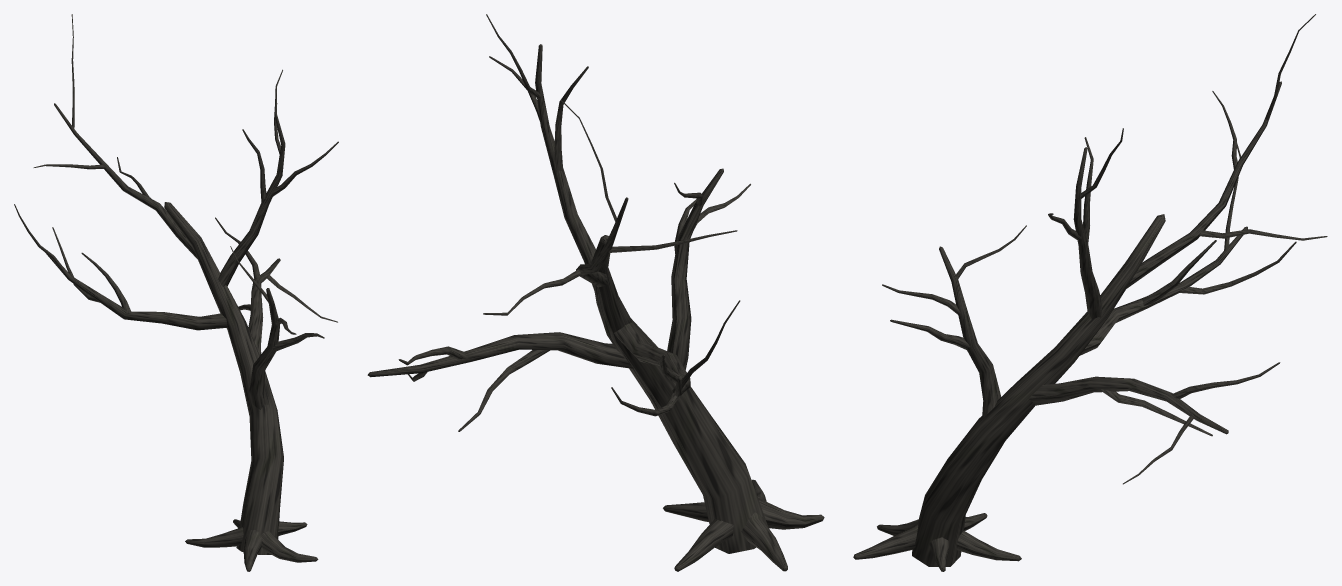
Rendered from GnarledDeadTree_1_LOD1.gltf.
3 renders of one model, left to right at view 1: azimuth 30°, elevation 25°; view 2: azimuth 150°, elevation 25°; view 3: azimuth 270°, elevation 25°, orthographic. The views are drawn at different scales.
Parts seen in each view (by area): view 1: GnarledDeadTree_1_LOD1; view 2: GnarledDeadTree_1_LOD1; view 3: GnarledDeadTree_1_LOD1.
Part boxes in pixels (bbox=[...]): GnarledDeadTree_1_LOD1: bbox=[14, 14, 338, 571]; GnarledDeadTree_1_LOD1: bbox=[367, 14, 824, 571]; GnarledDeadTree_1_LOD1: bbox=[853, 14, 1327, 571].
Size of the model in its own units: 7.87 by 11.72 by 9.54.
Materials: 1 (1 with a texture image).
